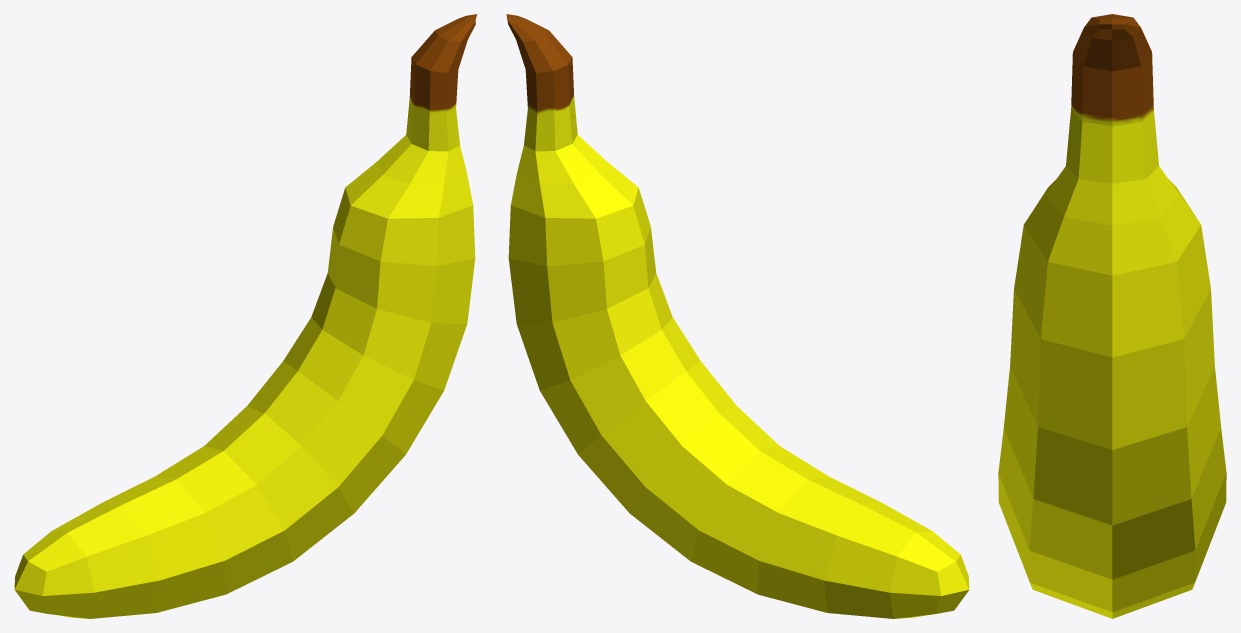
The model's file is Banana.fbx.
3 renders of one model, left to right at view 1: azimuth 30°, elevation 25°; view 2: azimuth 150°, elevation 25°; view 3: azimuth 270°, elevation 25°, orthographic. The views are drawn at different scales.
Parts seen in each view (by area): view 1: Banana; view 2: Banana; view 3: Banana.
Part boxes in pixels (x1,y1,x2,y2): Banana: (14, 14, 477, 618); Banana: (506, 14, 969, 618); Banana: (998, 14, 1226, 618).
Bounding box in the file's own units: 739 × 783 × 209.
